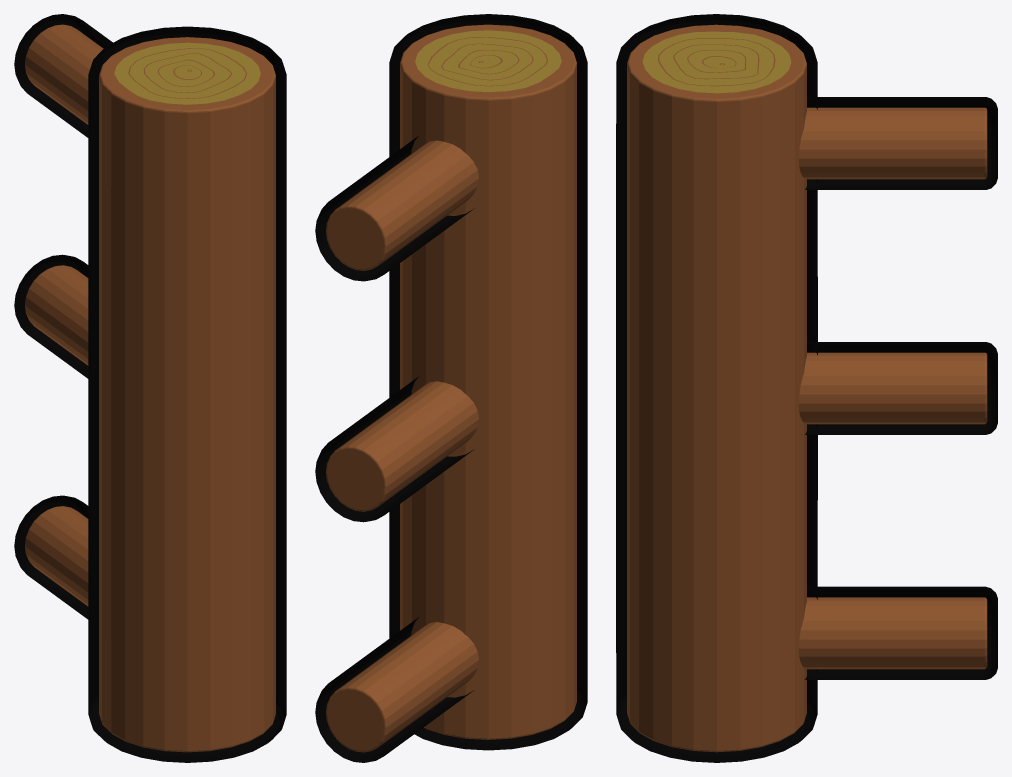
The model's file is log_fence_medium.glb.
3 renders of one model, left to right at view 1: azimuth 30°, elevation 25°; view 2: azimuth 150°, elevation 25°; view 3: azimuth 270°, elevation 25°, orthographic.
Visible parts, largest first — view 1: log_fence_medium; view 2: log_fence_medium; view 3: log_fence_medium.
Part boxes in pixels (x1=…): log_fence_medium: x1=14, y1=14, x2=286, y2=762; log_fence_medium: x1=315, y1=14, x2=587, y2=762; log_fence_medium: x1=616, y1=14, x2=997, y2=762.
Size of the model in its own units: 3.36 by 12.36 by 6.36.
